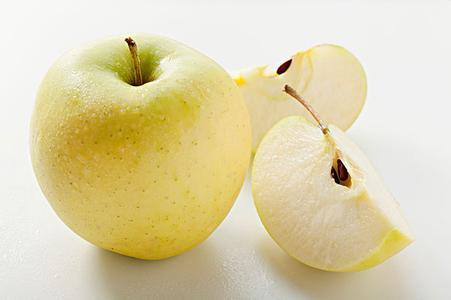apple: (26, 31, 253, 258), (252, 115, 413, 274), (233, 42, 367, 136)
